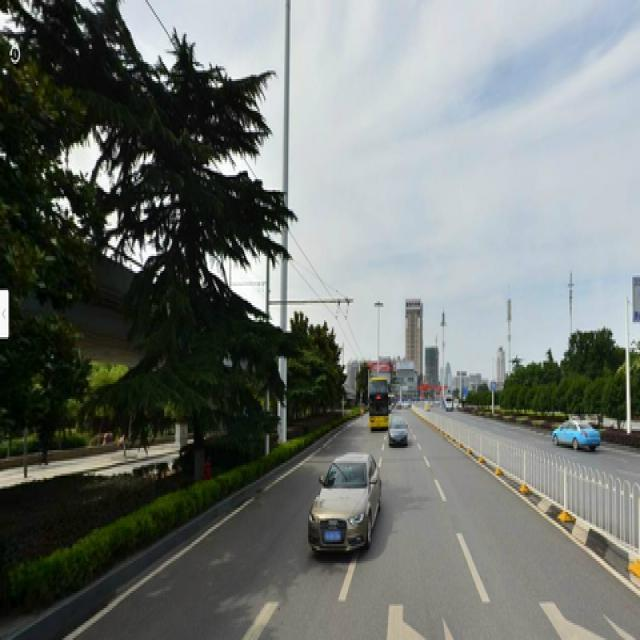cedr: (152, 39, 256, 482)
